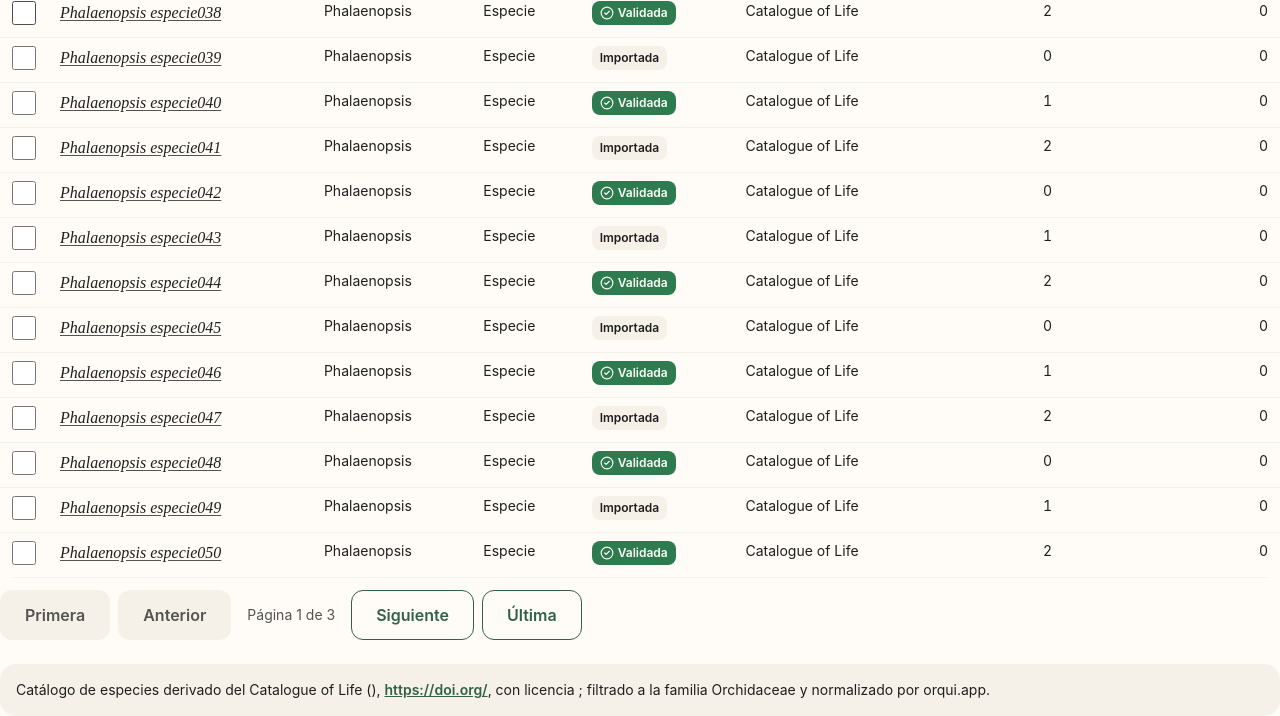
Test case: CatalogAdminPage › pasa de página por clave y lo guarda en la URL; recargar pide lo mismo
This screenshot has width=1280, height=716.
Later steps or results of the test are not shown.
(page scrolled)
Click the button "Siguiente": [413, 615] box [351, 590, 474, 640]
(page scrolled)
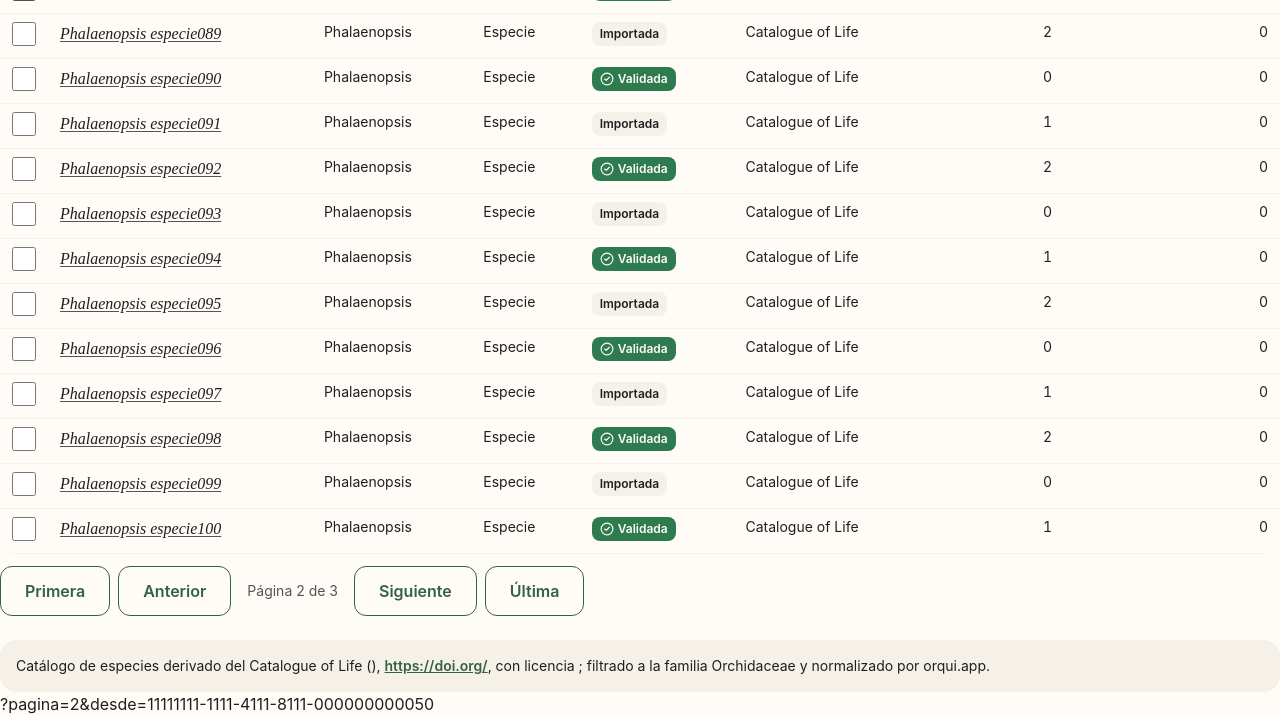
Click the button "Última": [535, 591] box [485, 566, 584, 616]
(page scrolled)
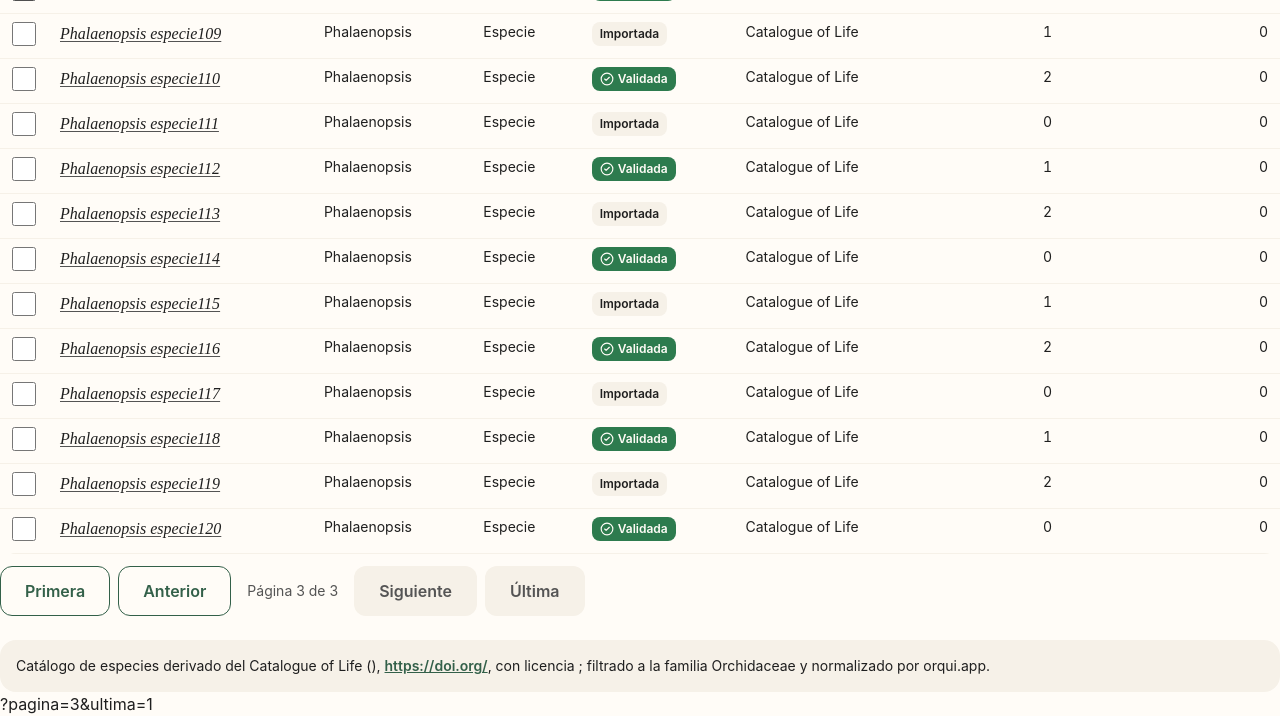
Now the button "Siguiente" is disabled, box [354, 566, 477, 616]
